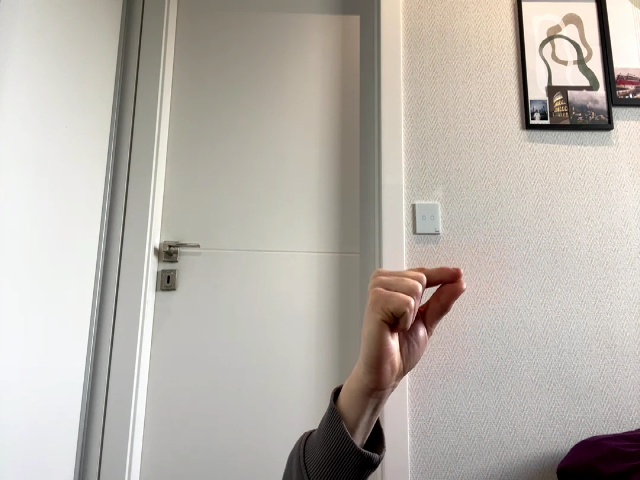P: (360, 267, 466, 389)
